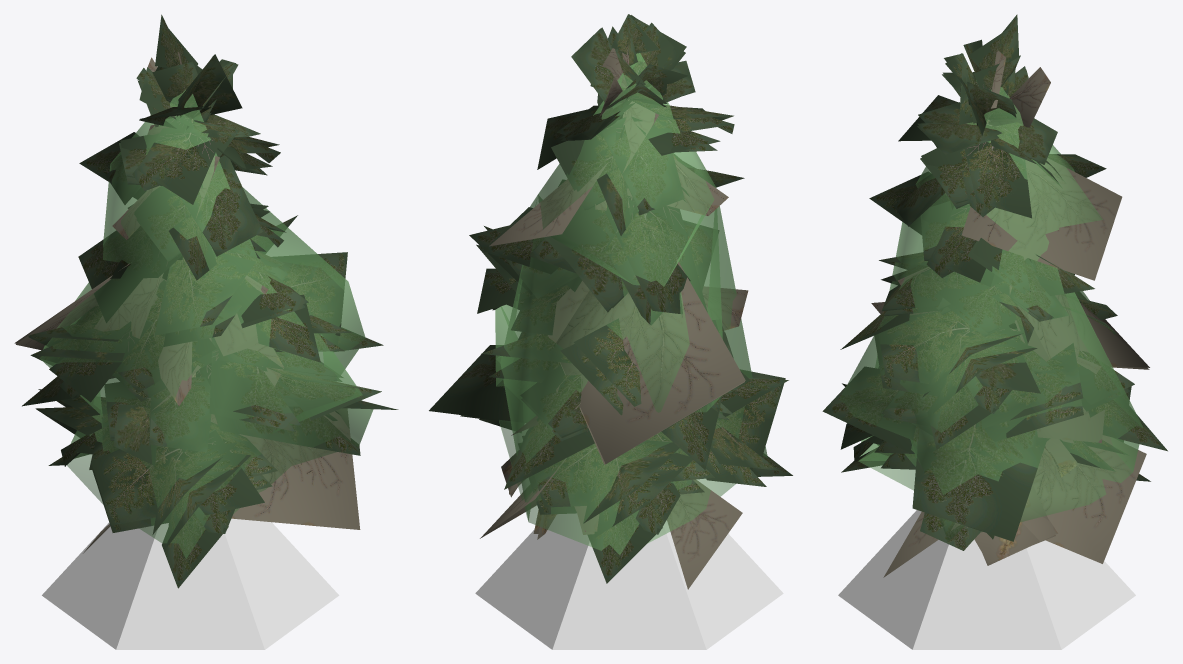
File: tree_douglasfir_small_d.dae
3 views of the same model, side by side, from view 1: azimuth 30°, elevation 25°; view 2: azimuth 150°, elevation 25°; view 3: azimuth 270°, elevation 25° (orthographic). The views are drawn at different scales.
Visible parts, largest first — view 1: Colmesh_small_d-1, tree_douglasfir_small_d_a300, tree_douglasfir_small_d_a700, tree_douglasfir_small_d_a500; view 2: Colmesh_small_d-1, tree_douglasfir_small_d_a300, tree_douglasfir_small_d_a700, tree_douglasfir_small_d_a500; view 3: Colmesh_small_d-1, tree_douglasfir_small_d_a300, tree_douglasfir_small_d_a500, tree_douglasfir_small_d_a700.
Part boxes in pixels (box(x1,y1,x2,y2)): Colmesh_small_d-1: box(40, 90, 373, 649); tree_douglasfir_small_d_a300: box(14, 57, 398, 588); tree_douglasfir_small_d_a700: box(30, 14, 381, 546); tree_douglasfir_small_d_a500: box(16, 16, 340, 553); Colmesh_small_d-1: box(475, 53, 783, 649); tree_douglasfir_small_d_a300: box(429, 15, 792, 583); tree_douglasfir_small_d_a700: box(460, 14, 788, 589); tree_douglasfir_small_d_a500: box(461, 14, 784, 537); Colmesh_small_d-1: box(838, 80, 1143, 649); tree_douglasfir_small_d_a300: box(822, 39, 1167, 577); tree_douglasfir_small_d_a500: box(840, 14, 1149, 565); tree_douglasfir_small_d_a700: box(853, 15, 1134, 550).
Bounding box in the file's own units: 3.2 × 2.95 × 5.4.
